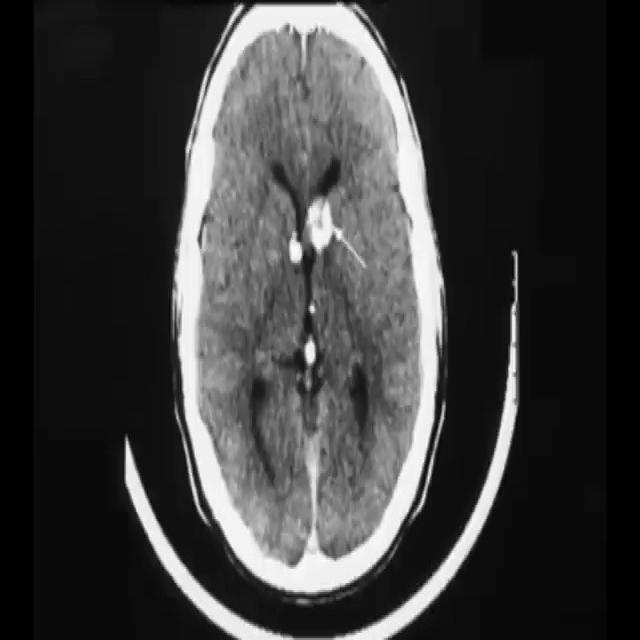tumor: (282, 151, 357, 284)
